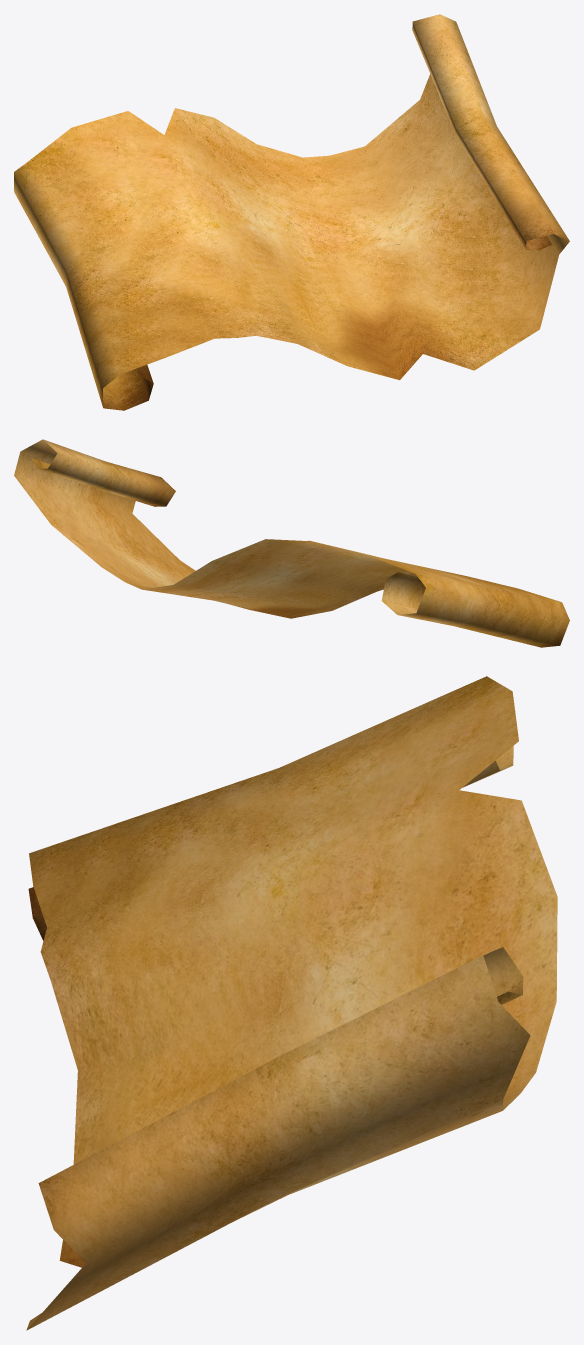
File: Mapa_001_Finished.fbx
3 views of the same model, one above another, from view 1: azimuth 30°, elevation 25°; view 2: azimuth 150°, elevation 25°; view 3: azimuth 270°, elevation 25° (orthographic). The views are drawn at different scales.
Visible parts, largest first — view 1: Plane; view 2: Plane; view 3: Plane.
Boxes of the visible parts, <box> form: Plane: <box>14,14,569,410</box>; Plane: <box>14,439,569,647</box>; Plane: <box>26,676,557,1330</box>.
Bounding box in the file's own units: 215 × 105 × 114.
Materials: 1 (1 with a texture image).
